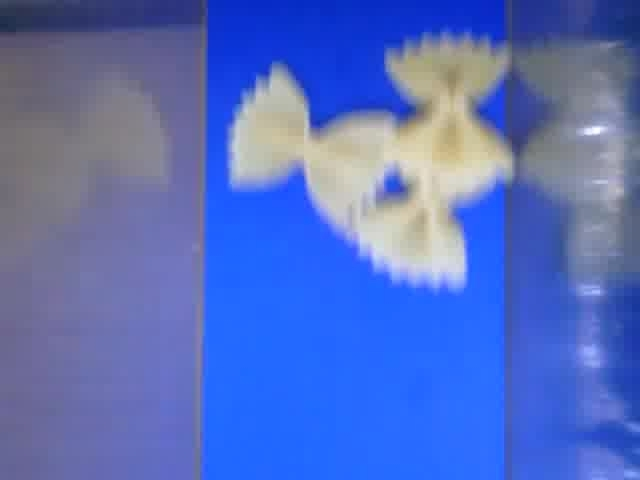farfalle: (230, 65, 388, 227), (384, 33, 518, 188), (352, 164, 504, 289)
